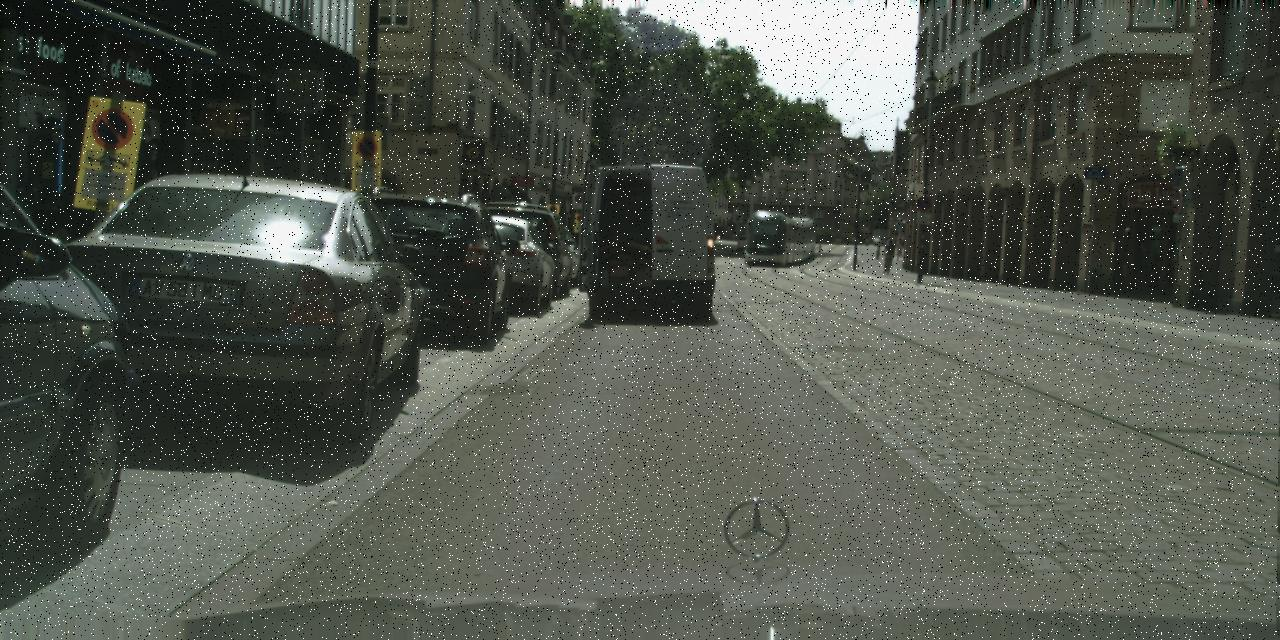ped: (882, 238, 894, 270), (896, 232, 904, 255), (885, 237, 892, 254)
